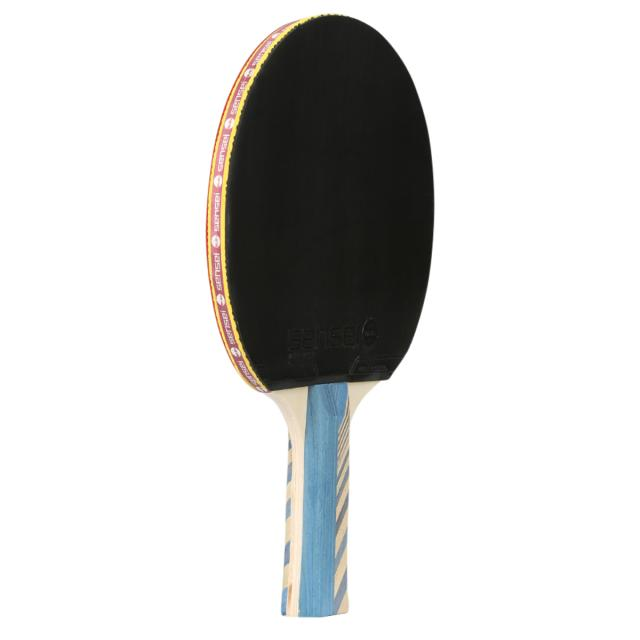TT Racket: (179, 4, 453, 447)
